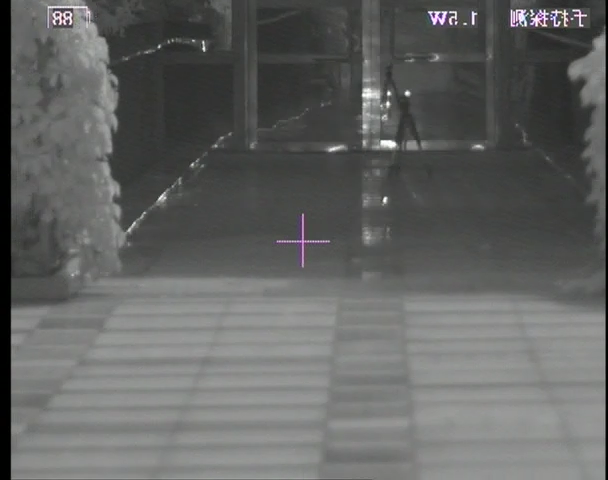my: (404, 89, 411, 97)
